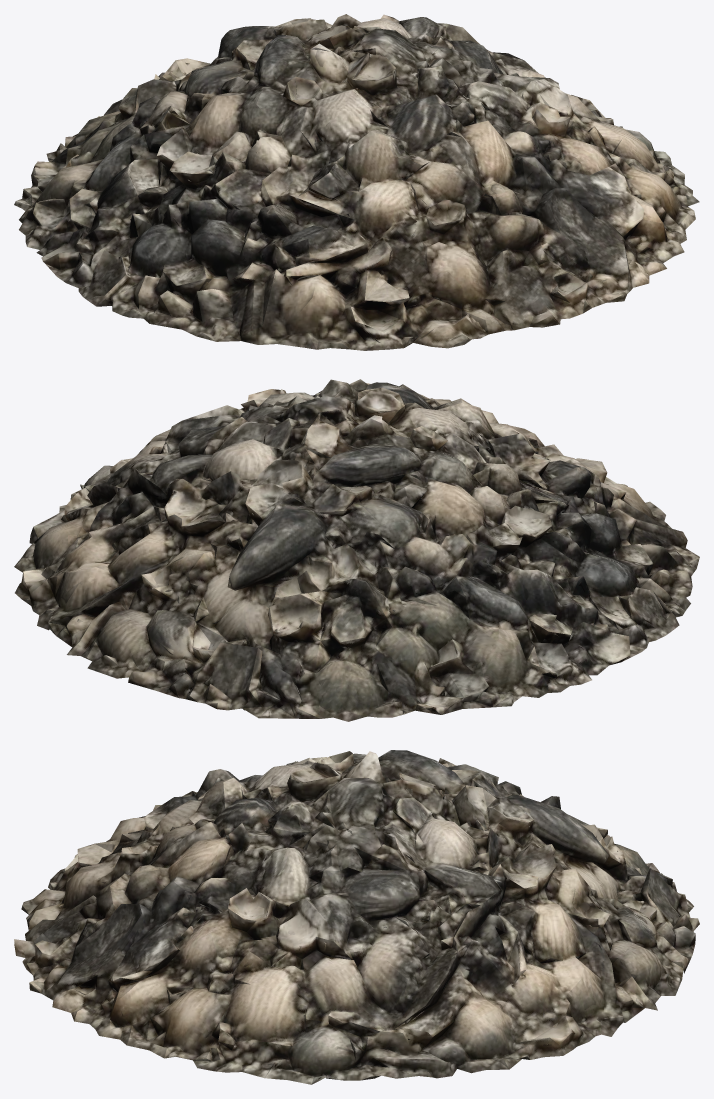
3 renders of one model, top to bottom at view 1: azimuth 30°, elevation 25°; view 2: azimuth 150°, elevation 25°; view 3: azimuth 270°, elevation 25°, orthographic.
Parts seen in each view (by area): view 1: shell-midden; view 2: shell-midden; view 3: shell-midden.
Boxes of the visible parts, x1=… form: shell-midden: x1=14, y1=14, x2=699, y2=350; shell-midden: x1=14, y1=379, x2=699, y2=721; shell-midden: x1=14, y1=750, x2=699, y2=1084.
Size of the model in its own units: 1.5 by 0.4294 by 1.5.
Materials: 1 (1 with a texture image).
